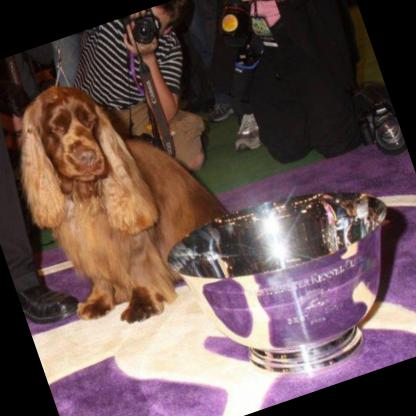Sussex_spaniel: (0, 43, 249, 341)
